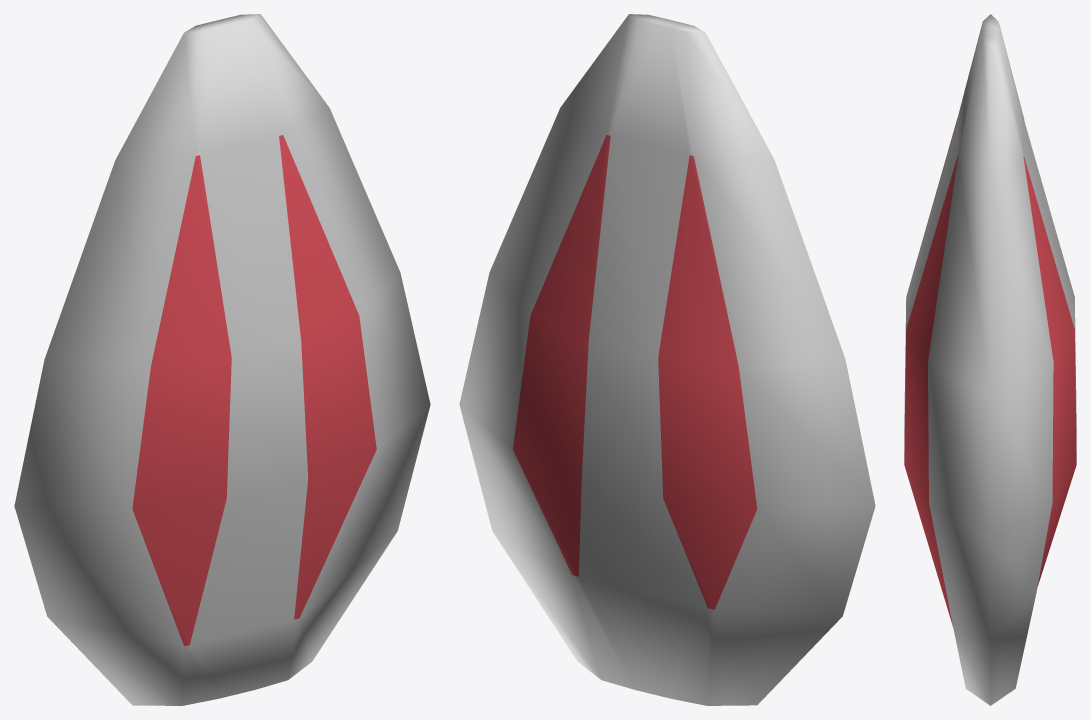
Rendered from seed.fbx.
The picture shows the model from 3 angles, left to right: view 1: azimuth 30°, elevation 25°; view 2: azimuth 150°, elevation 25°; view 3: azimuth 270°, elevation 25°; orthographic projection. The views are drawn at different scales.
Parts seen in each view (by area): view 1: Seed; view 2: Seed; view 3: Seed.
Boxes of the visible parts, <box> form: Seed: <box>14,14,430,705</box>; Seed: <box>459,14,875,705</box>; Seed: <box>904,14,1076,705</box>.
Size of the model in its own units: 7.19 by 10.9 by 2.69.
